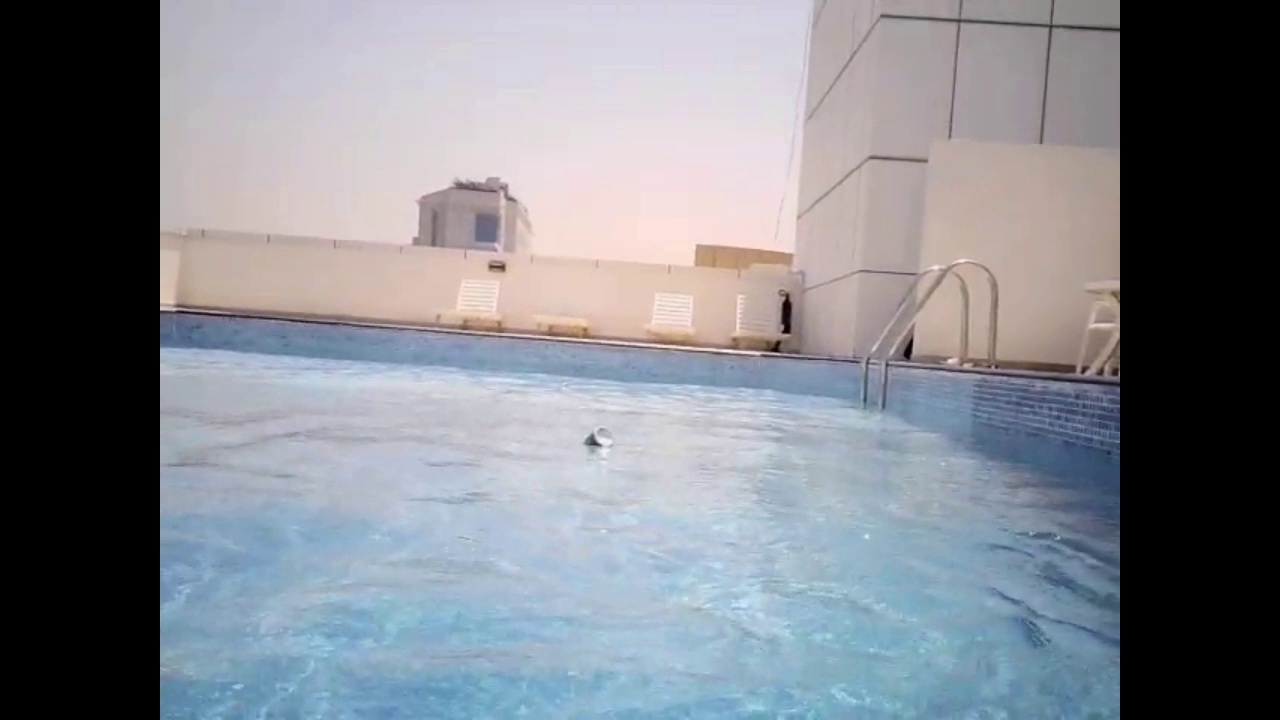debris: (575, 424, 615, 453)
